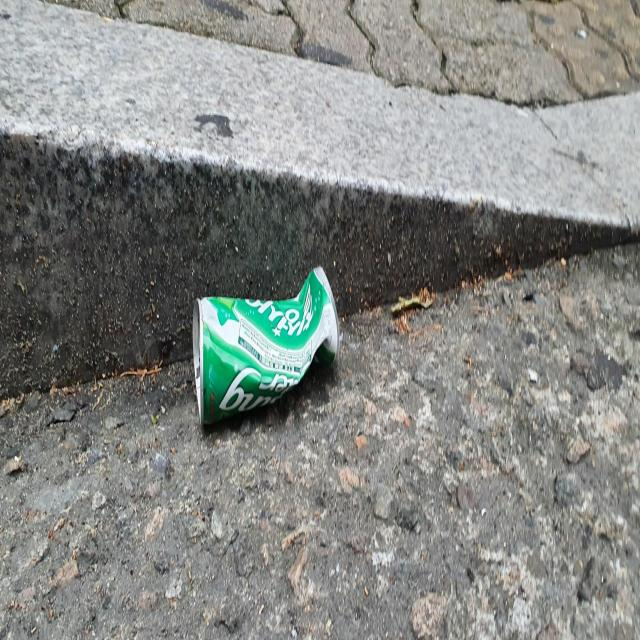can: (192, 265, 340, 423)
